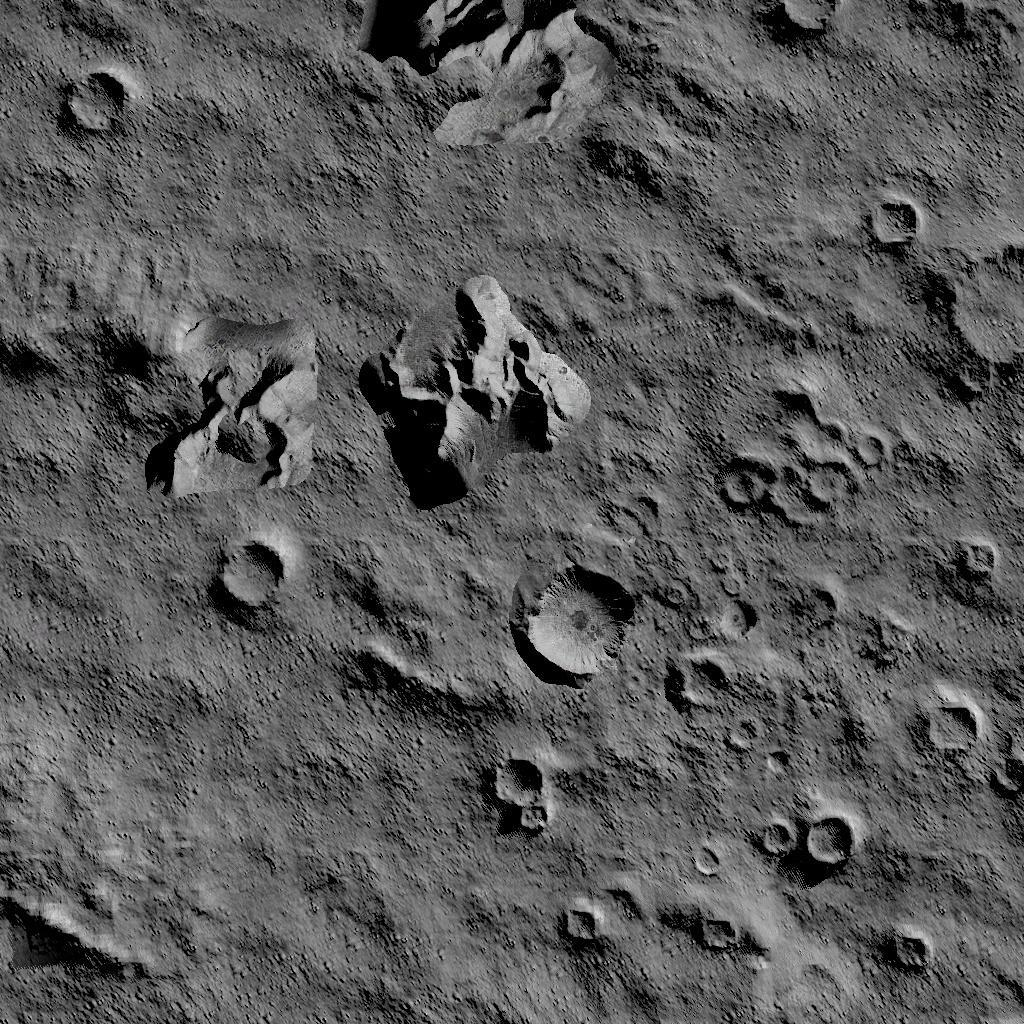Boulders: (346, 266, 583, 505), (120, 290, 309, 486), (392, 0, 615, 131)
Crater: (720, 378, 888, 520), (518, 560, 636, 678), (947, 226, 1024, 376), (213, 532, 293, 618), (48, 66, 130, 136), (752, 811, 850, 860), (486, 752, 551, 825), (864, 185, 927, 243), (916, 694, 974, 748), (982, 726, 1024, 800), (666, 647, 726, 697), (950, 523, 1002, 569), (779, 0, 840, 34), (712, 590, 758, 631), (556, 892, 598, 934), (878, 920, 924, 958), (690, 902, 734, 937), (686, 830, 719, 866), (722, 736, 748, 768)
Plan surface: (211, 652, 479, 954), (0, 514, 197, 832), (137, 0, 373, 192)
